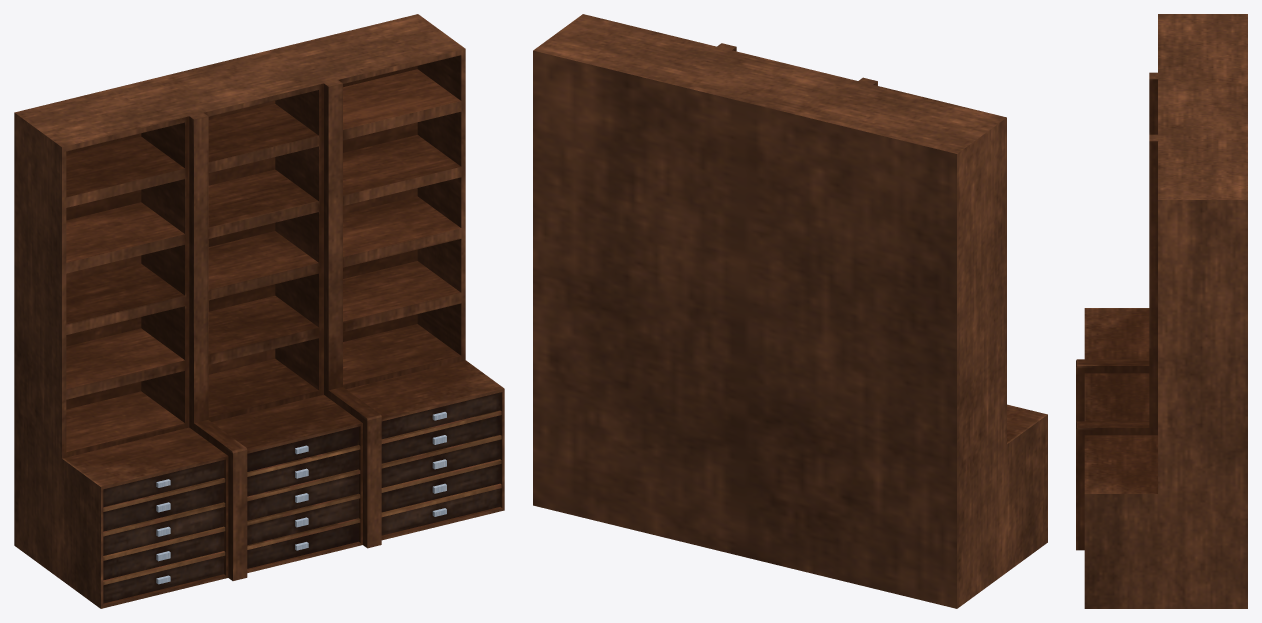
The model's file is Movel_Para_Cofre.fbx.
The picture shows the model from 3 angles, left to right: view 1: azimuth 30°, elevation 25°; view 2: azimuth 150°, elevation 25°; view 3: azimuth 270°, elevation 25°; orthographic projection. The views are drawn at different scales.
Parts seen in each view (by area): view 1: Armario; view 2: Armario; view 3: Armario.
Part boxes in pixels (x1=…): Armario: x1=14, y1=14, x2=504, y2=608; Armario: x1=533, y1=14, x2=1047, y2=608; Armario: x1=1076, y1=14, x2=1247, y2=608.
Size of the model in its own units: 300 by 308 by 117.
